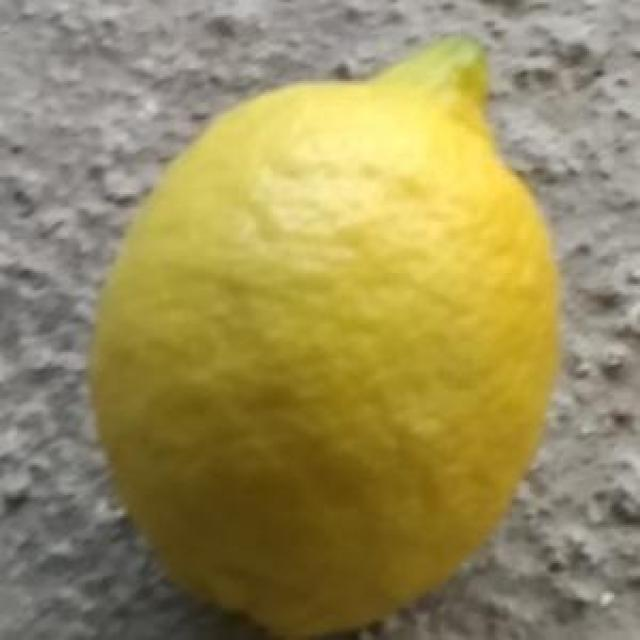lemon: (90, 32, 564, 640)
